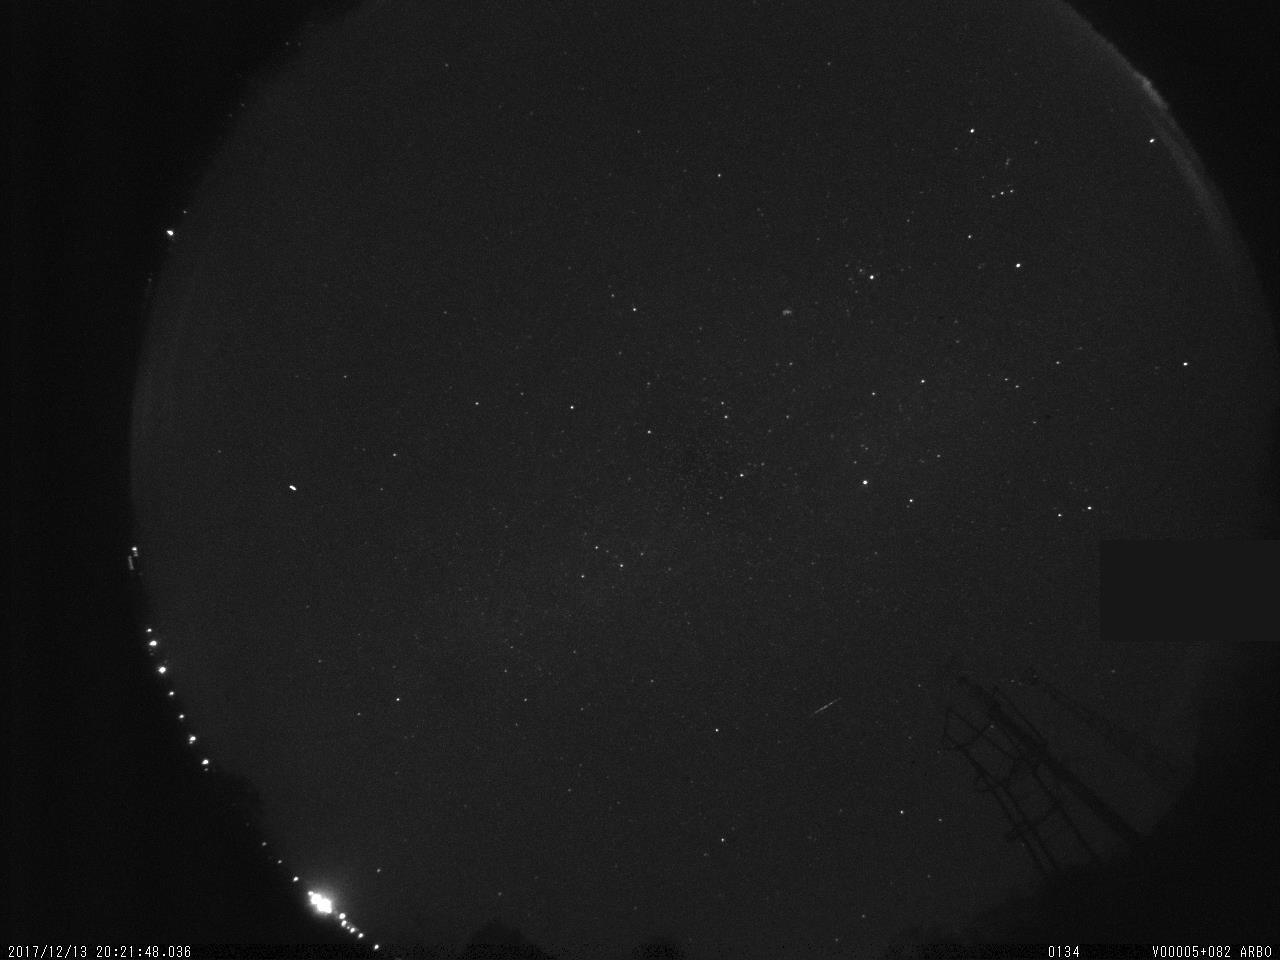meteor: (797, 678, 856, 736)
